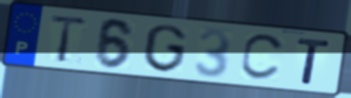3: (193, 27, 234, 80)
6: (92, 18, 139, 71)
C: (238, 33, 288, 83)
G: (142, 23, 189, 75)
T: (47, 14, 91, 64), (295, 36, 333, 87)
